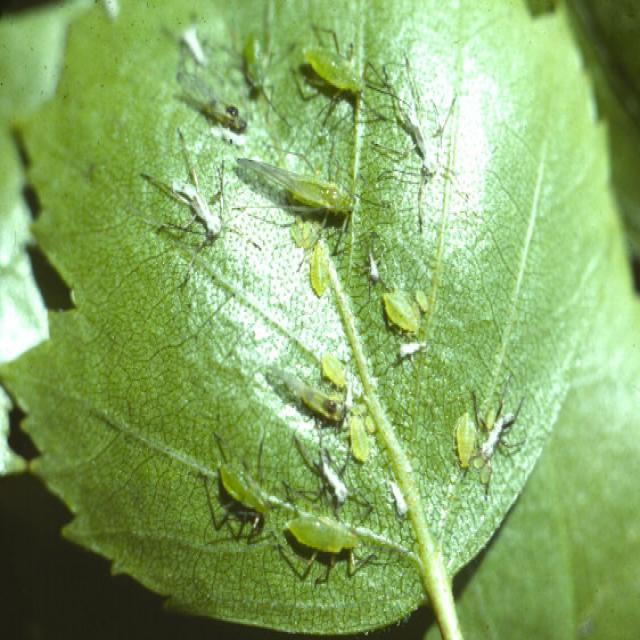Aphid-Grown-: (275, 480, 362, 576), (205, 439, 273, 535), (293, 31, 374, 106), (377, 284, 429, 344), (452, 384, 480, 479), (307, 237, 338, 308), (342, 406, 376, 464), (318, 346, 354, 392)
Aphid-Grown-have wings-: (232, 145, 378, 230)
